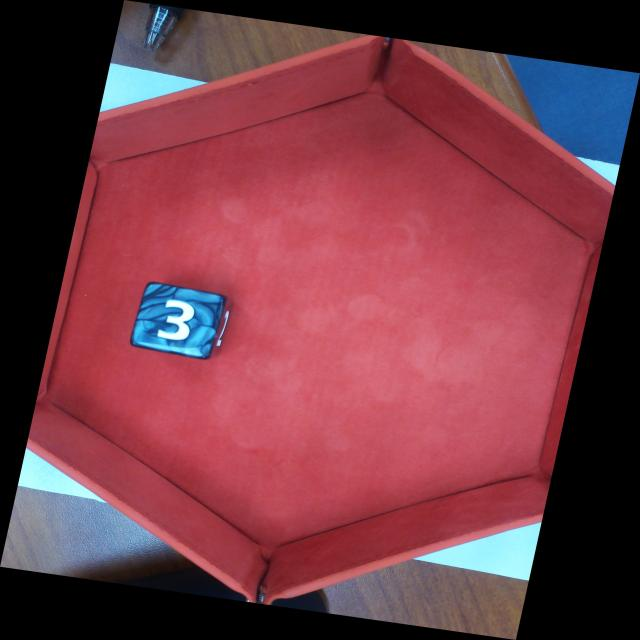dice: (128, 280, 228, 361)
